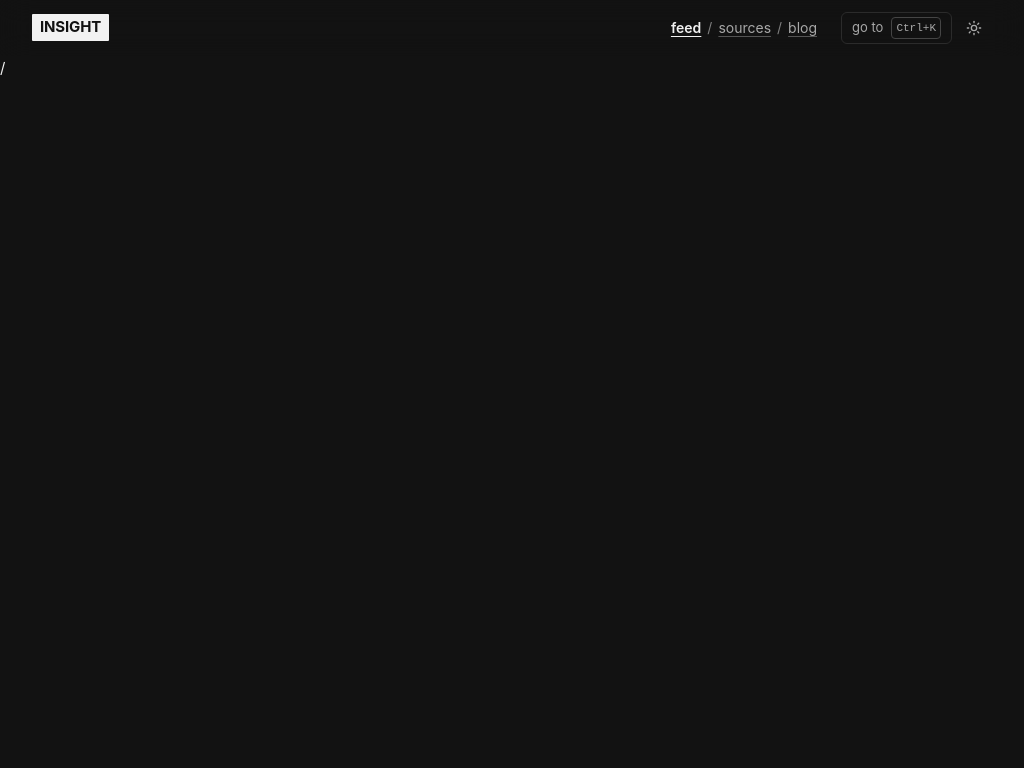
Test: AppShell › Ctrl+K opens the quick switcher; typing filters; Enter navigates
The image size is (1024, 768).
Type keys "{Control>}k{/Control}"
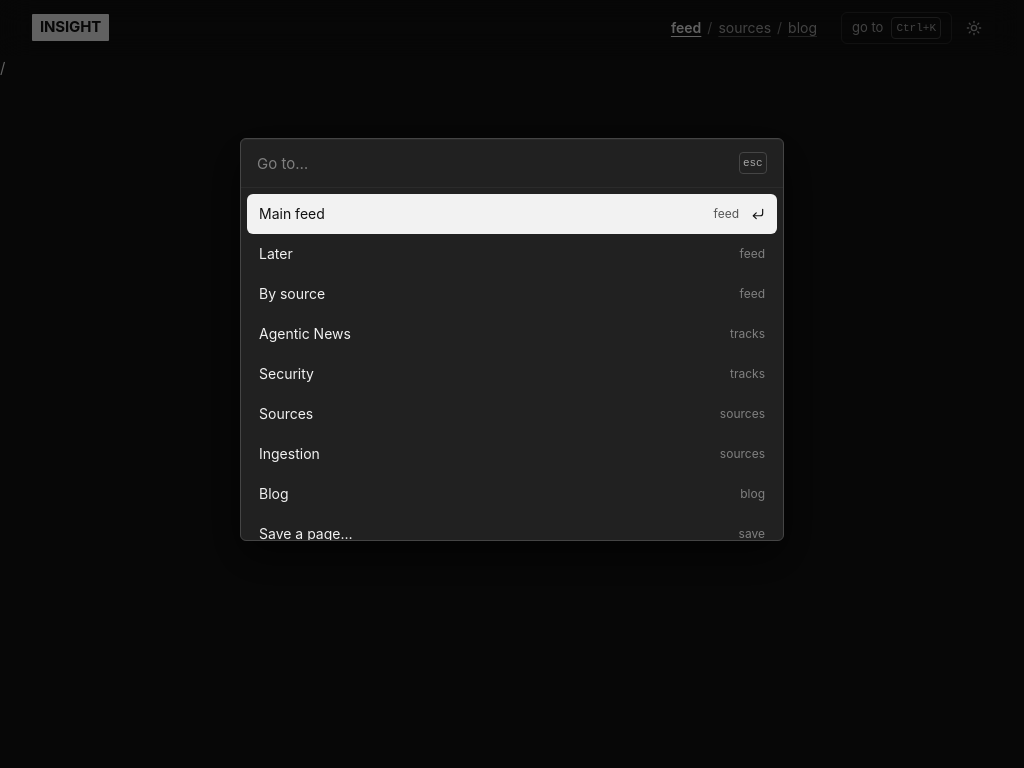
Type "health" into the dropdown labelled "Go to".
click(494, 163); type("health")  # box [257,139,731,187]
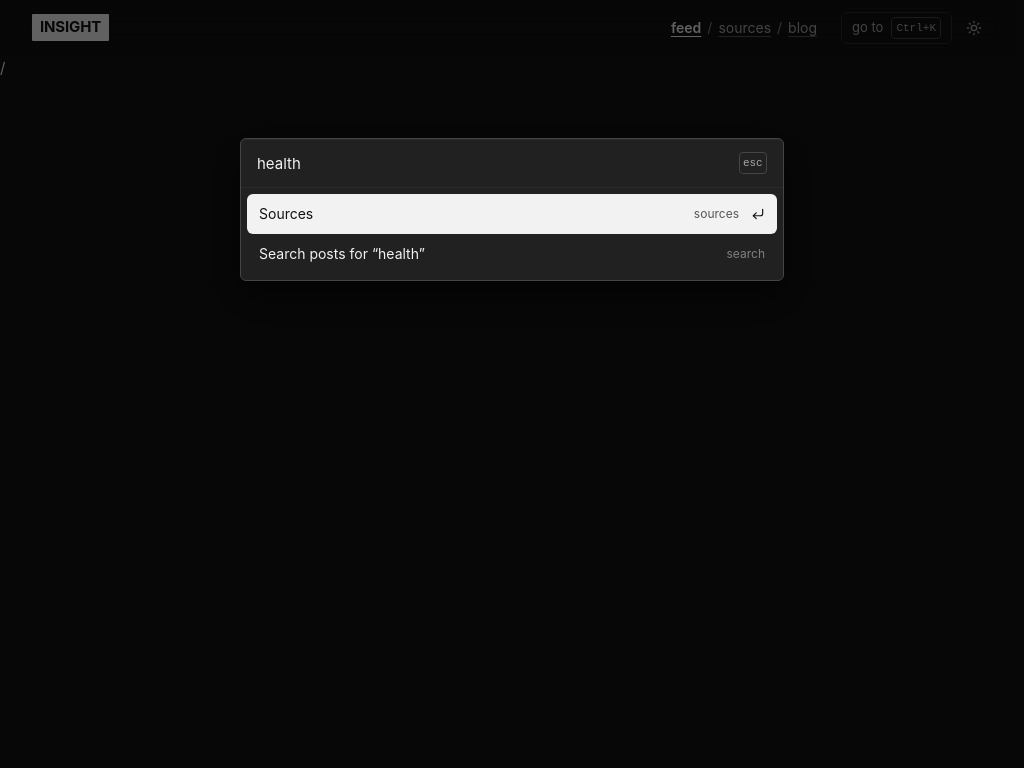
Check: the option "Sources sources" is selected, box [247,194,777,234]
Press Enter
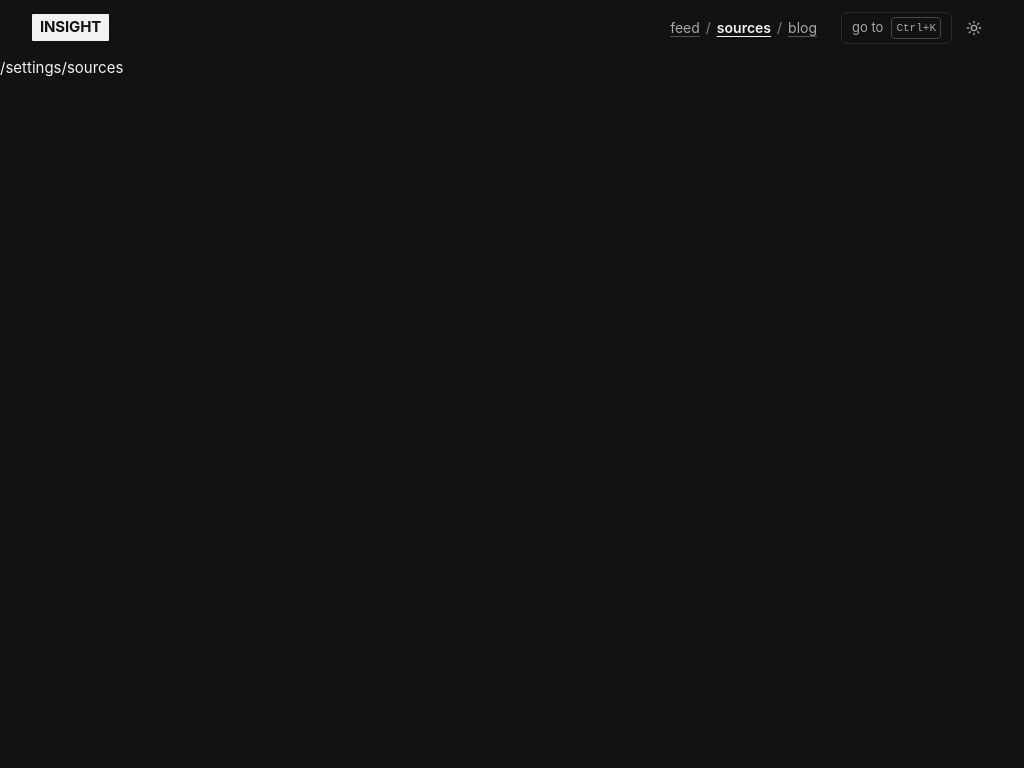
Check: the dialog is gone
Check: the text with test id "where" reads "/settings/sources", box [0,58,123,77]
